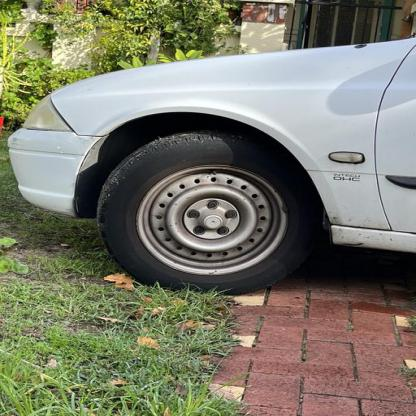Tire: (96, 132, 320, 295)
